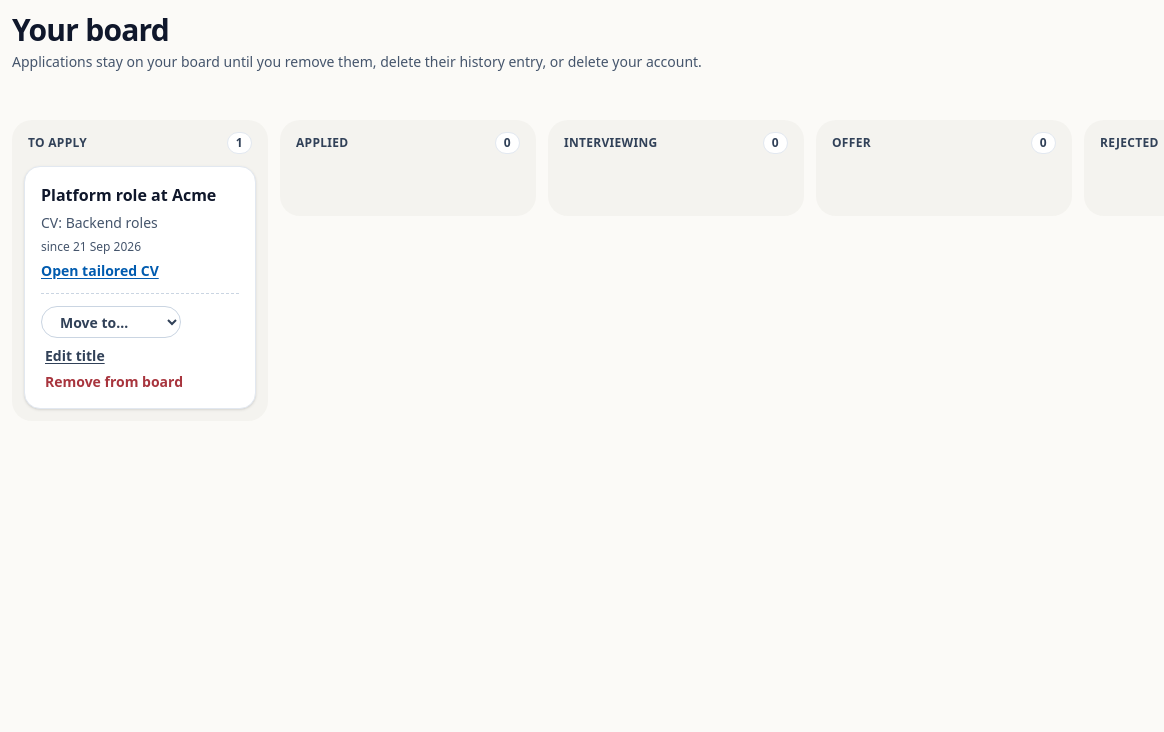
Scenario: Retitle (AC-36) › Edit title opens a labelled input holding the title, capped at 120, with the counter visible
Expected: the text "Platform role at Acme" is shown, left=41, top=183, right=239, bottom=207
What coordinates should you click on to do the following:
click the button "Edit title"
I would click on:
 (75, 356)
Its box is left=41, top=346, right=109, bottom=366.
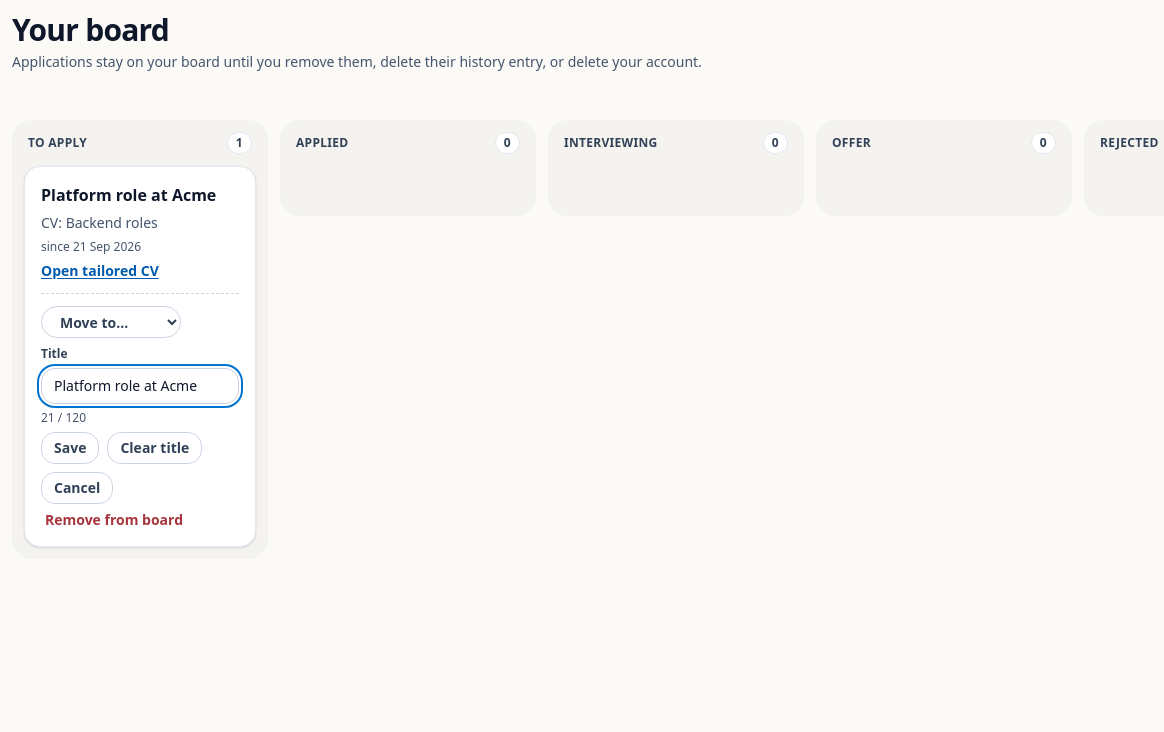
Result: the field labelled "Title" holds "Platform role at Acme" at left=41, top=368, right=239, bottom=404
Result: the text "21 / 120" is shown at left=41, top=409, right=86, bottom=426
